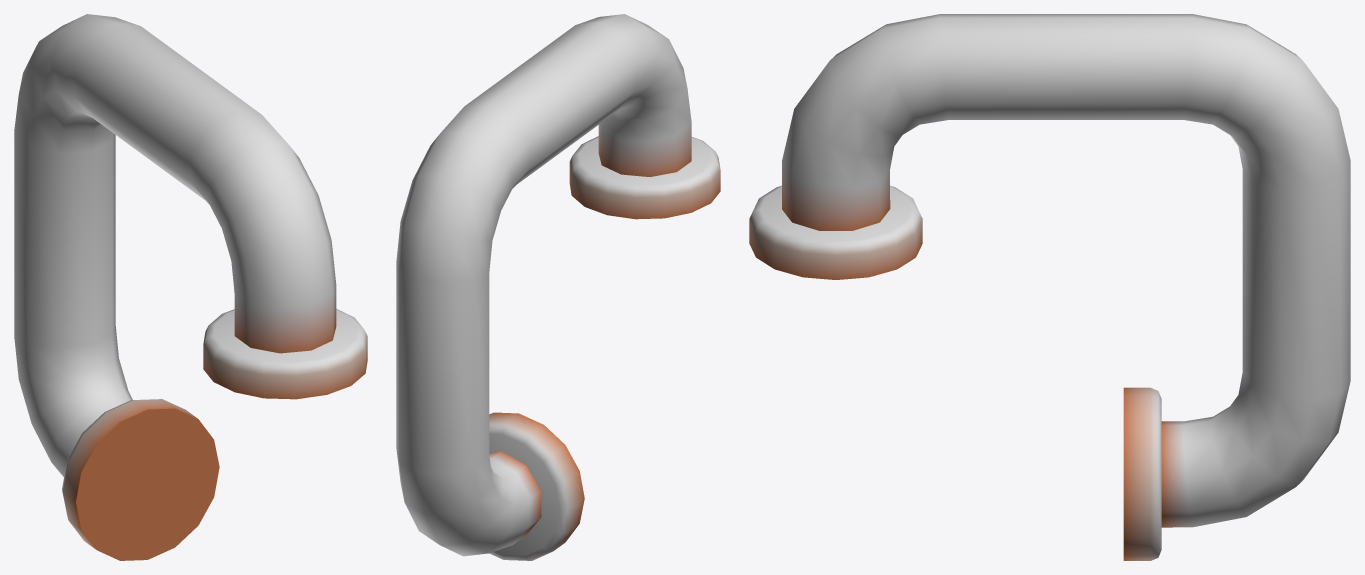
File: NF_Prop_Pipe 01.fbx
The picture shows the model from 3 angles, left to right: view 1: azimuth 30°, elevation 25°; view 2: azimuth 150°, elevation 25°; view 3: azimuth 270°, elevation 25°; orthographic projection. The views are drawn at different scales.
Visible parts, largest first — view 1: Pipe_01; view 2: Pipe_01; view 3: Pipe_01.
Part boxes in pixels (left/top/right/bottom): Pipe_01: left=14, top=14, right=367, bottom=560; Pipe_01: left=396, top=14, right=720, bottom=560; Pipe_01: left=749, top=14, right=1350, bottom=560.
Bounding box in the file's own units: 0.8 × 2.72 × 2.77.
